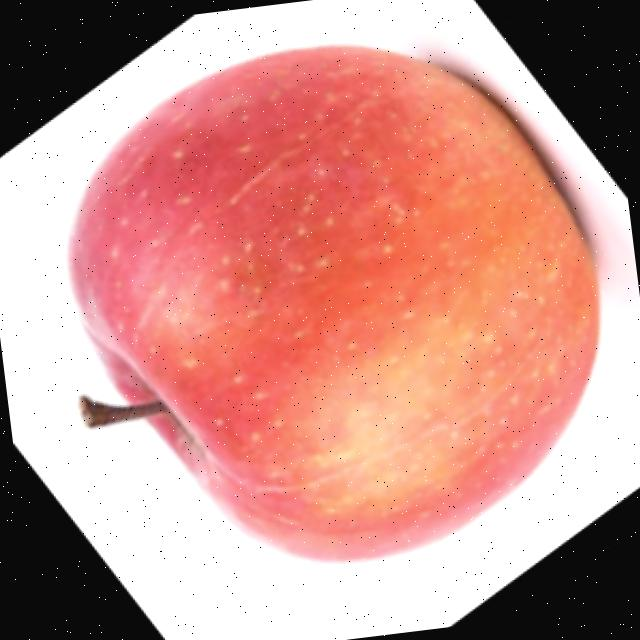Ripe: (33, 4, 634, 602)
